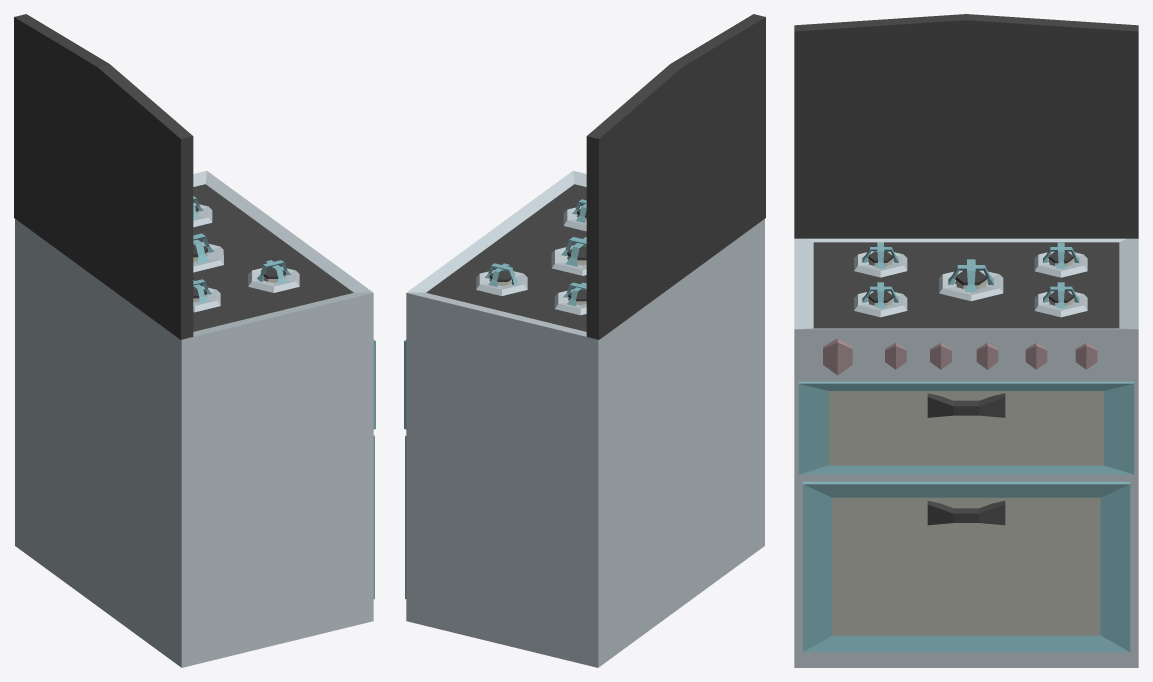
The model's file is fogao.fbx.
3 renders of one model, left to right at view 1: azimuth 30°, elevation 25°; view 2: azimuth 150°, elevation 25°; view 3: azimuth 270°, elevation 25°, orthographic. The views are drawn at different scales.
Visible parts, largest first — view 1: fogao; view 2: fogao; view 3: fogao.
Part boxes in pixels (x1,y1,x2,y2): fogao: (14,14,375,667); fogao: (404,14,765,667); fogao: (794,14,1138,667).
Bounding box in the file's own units: 328 × 807 × 452.
